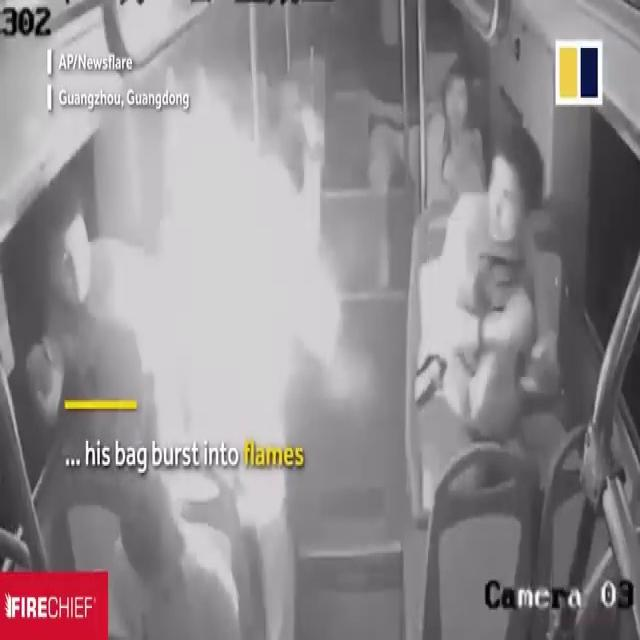fire: (72, 129, 346, 413)
